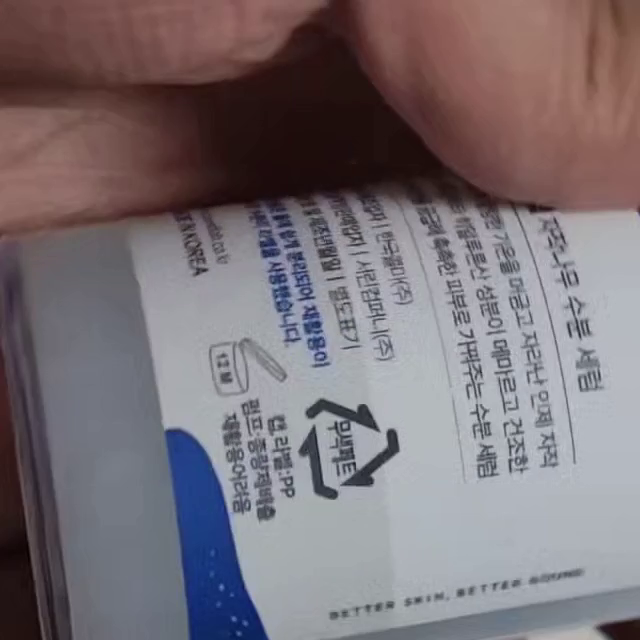ColorlessPet: (299, 396, 403, 501)
